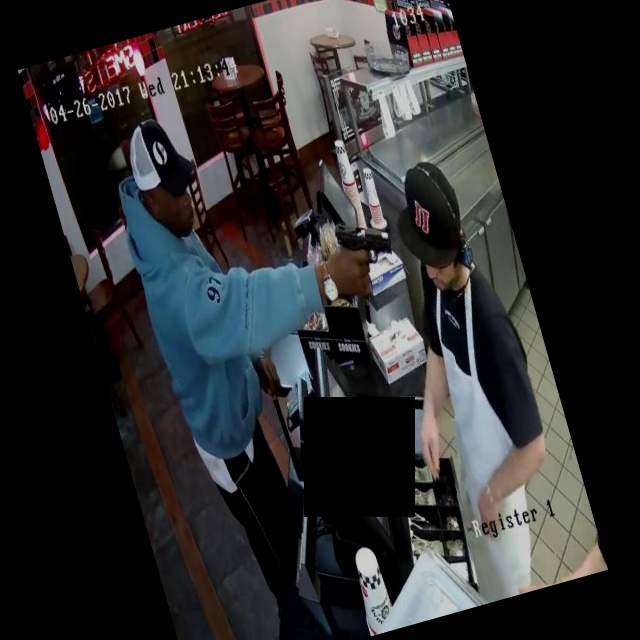gun: (308, 183, 412, 295)
